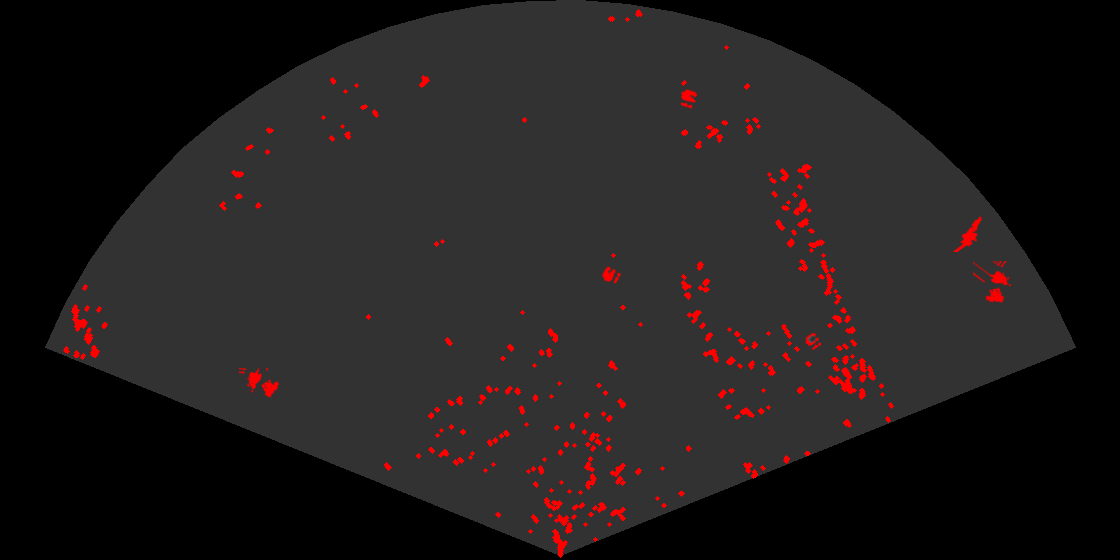ball: (678, 87, 699, 110), (600, 265, 623, 285), (804, 331, 823, 352)
cage: (973, 261, 1013, 304), (239, 368, 281, 399)
frogman: (953, 215, 984, 252)
